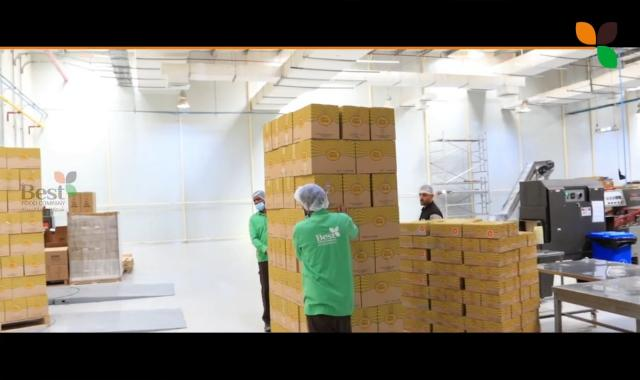hairnet: (297, 183, 329, 213), (417, 184, 436, 198), (252, 189, 266, 202)
